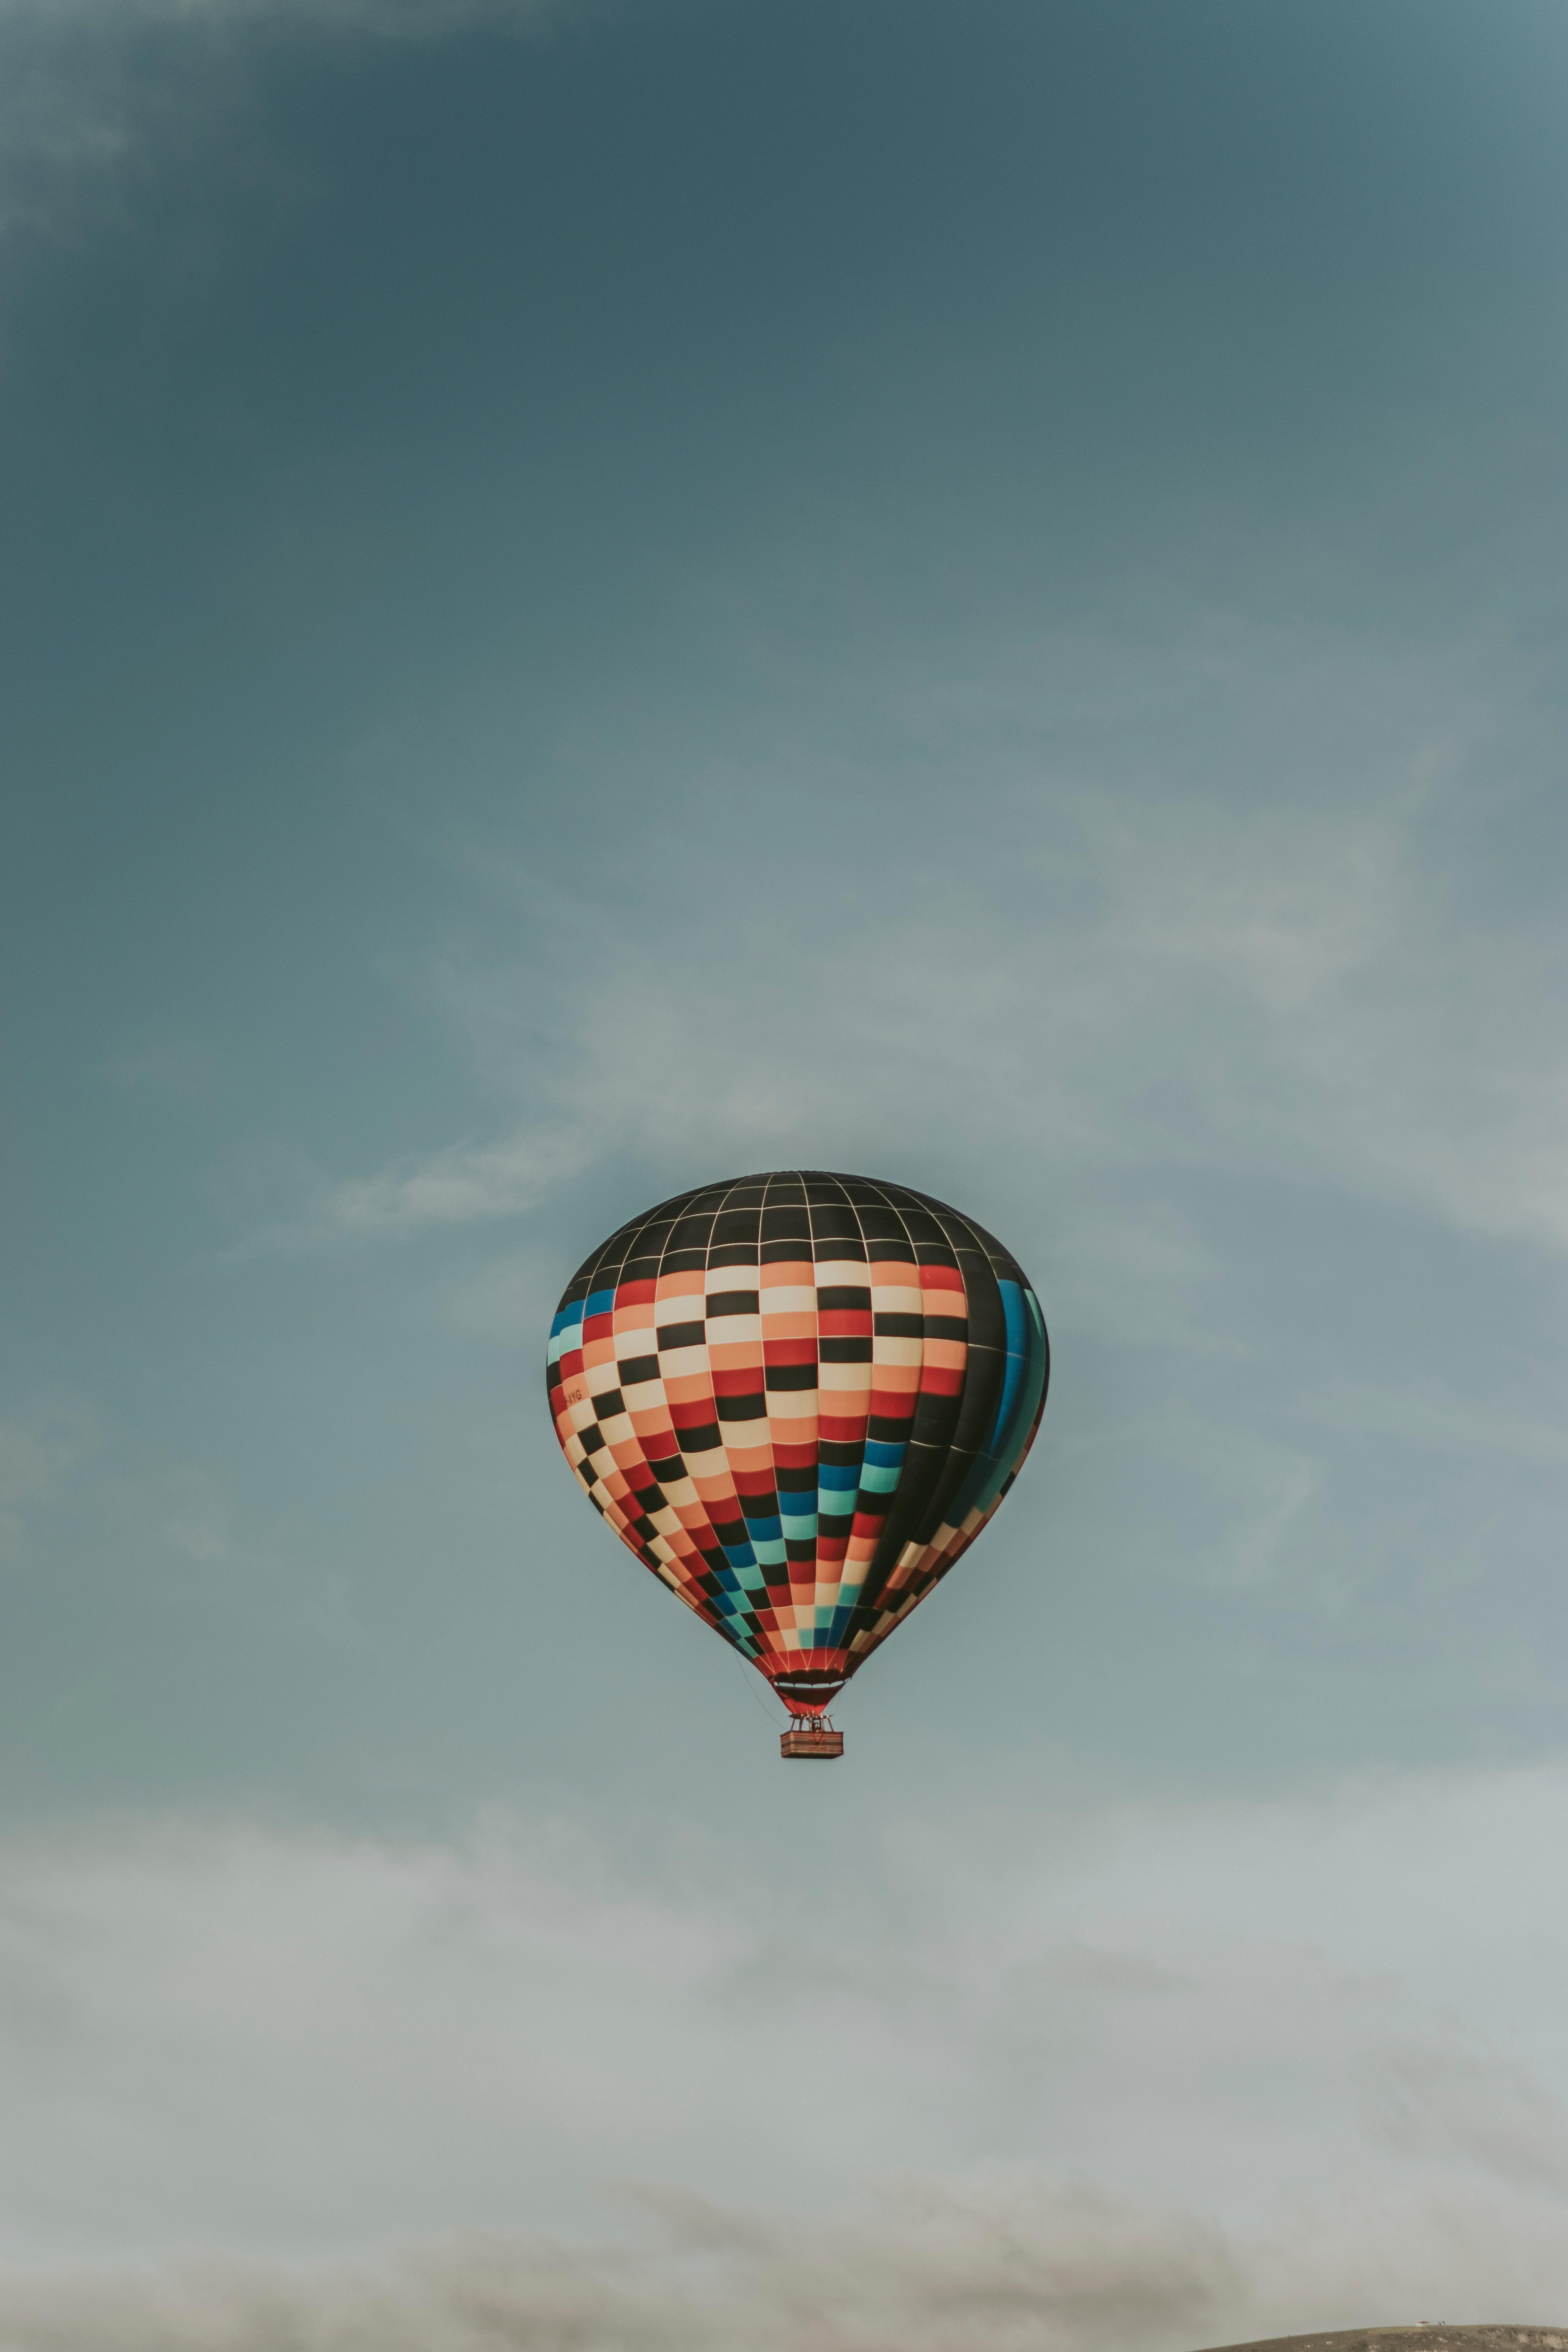hot air ballon: (539, 1160, 1061, 1781)
